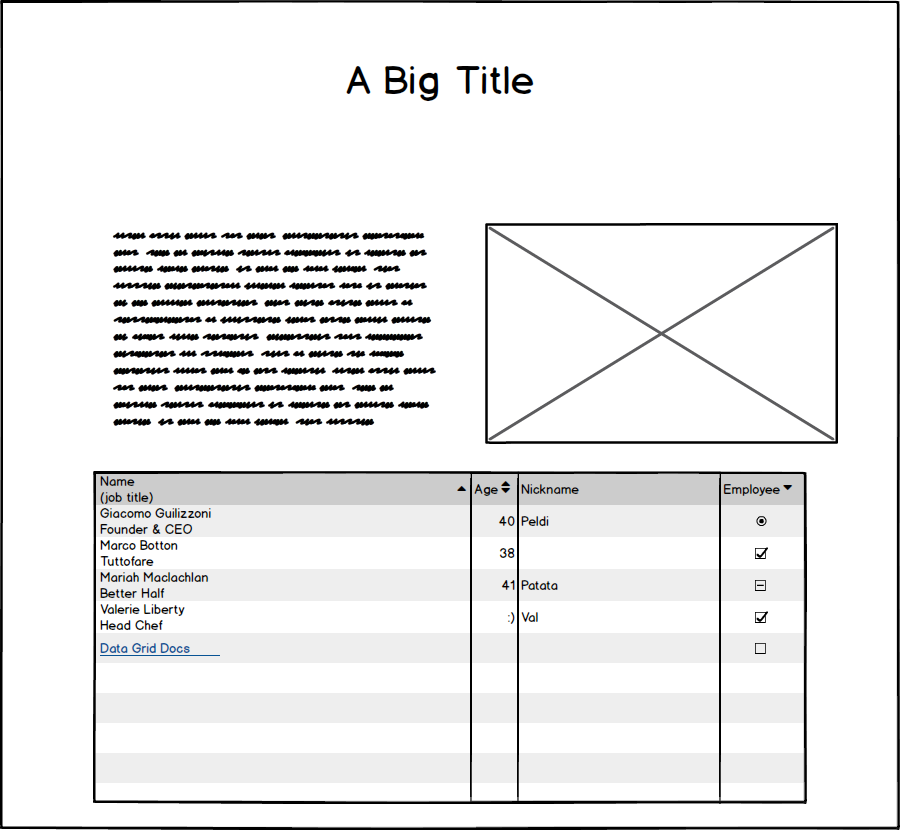h1: (335, 54, 553, 110)
image: (477, 216, 849, 450)
p: (106, 216, 441, 439)
table: (89, 472, 815, 811)
